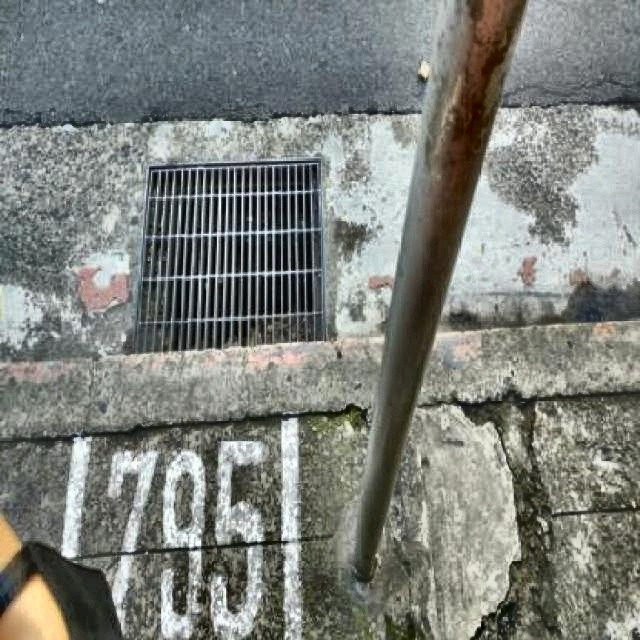Drain Hole: (123, 132, 357, 378)
